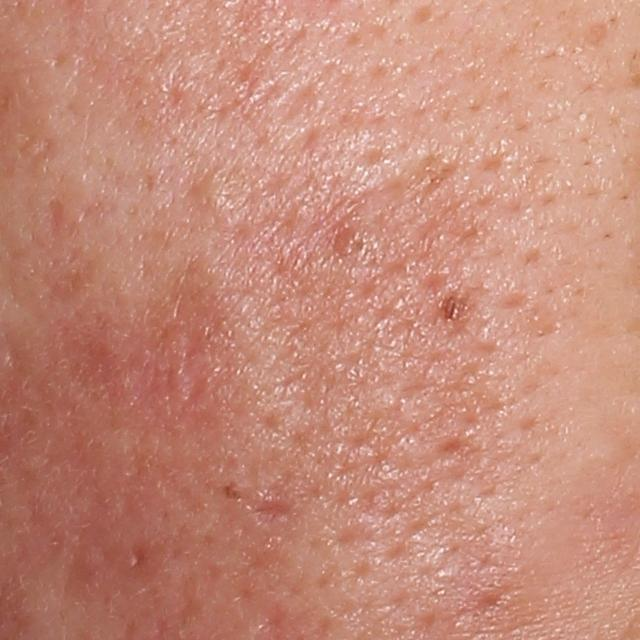atrophic_scar: (267, 70, 316, 132), (250, 496, 308, 530), (44, 190, 65, 245), (581, 19, 608, 51)
comedo: (185, 170, 228, 208)
